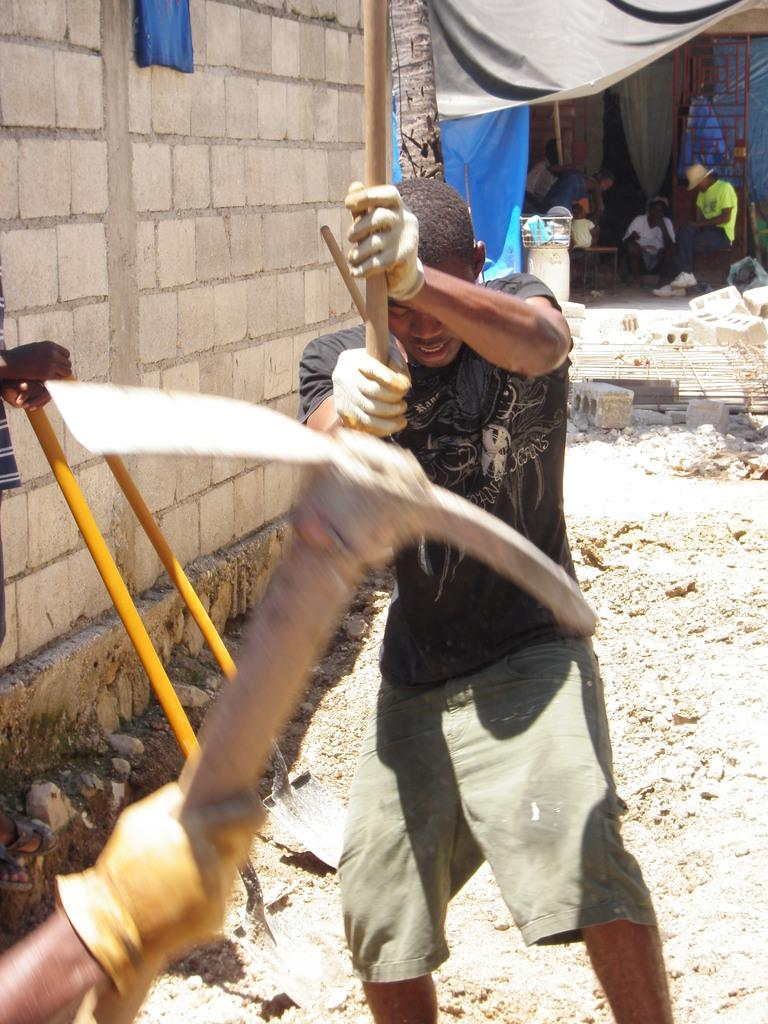knife: (1, 381, 593, 1023)
non-violence: (290, 167, 667, 1024), (654, 164, 740, 299), (621, 194, 676, 279), (542, 173, 618, 214), (573, 205, 596, 251)
